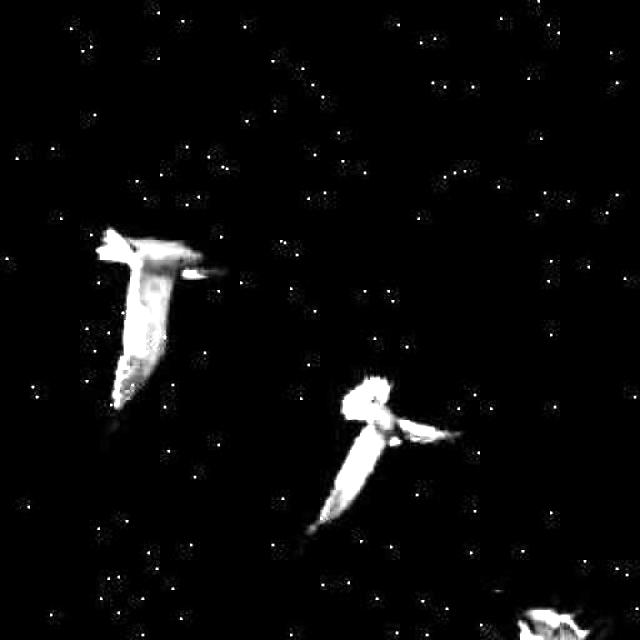airplane: (69, 205, 252, 462), (269, 349, 479, 565), (474, 576, 624, 640)
